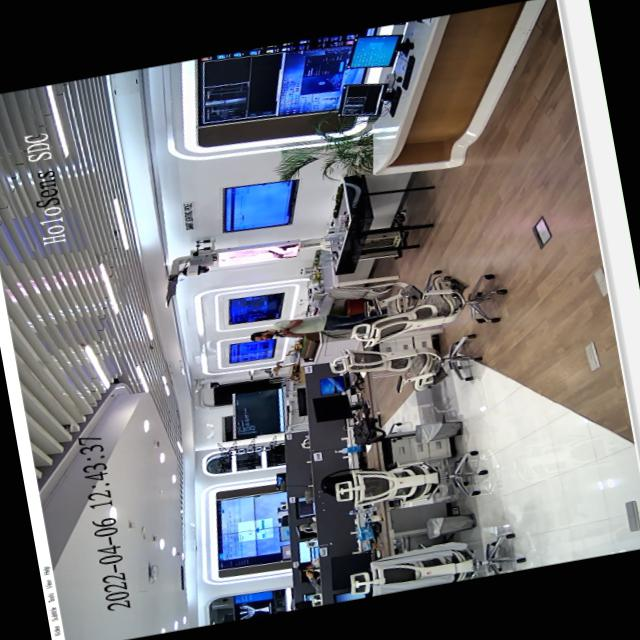long weapon: (268, 321, 304, 344)
